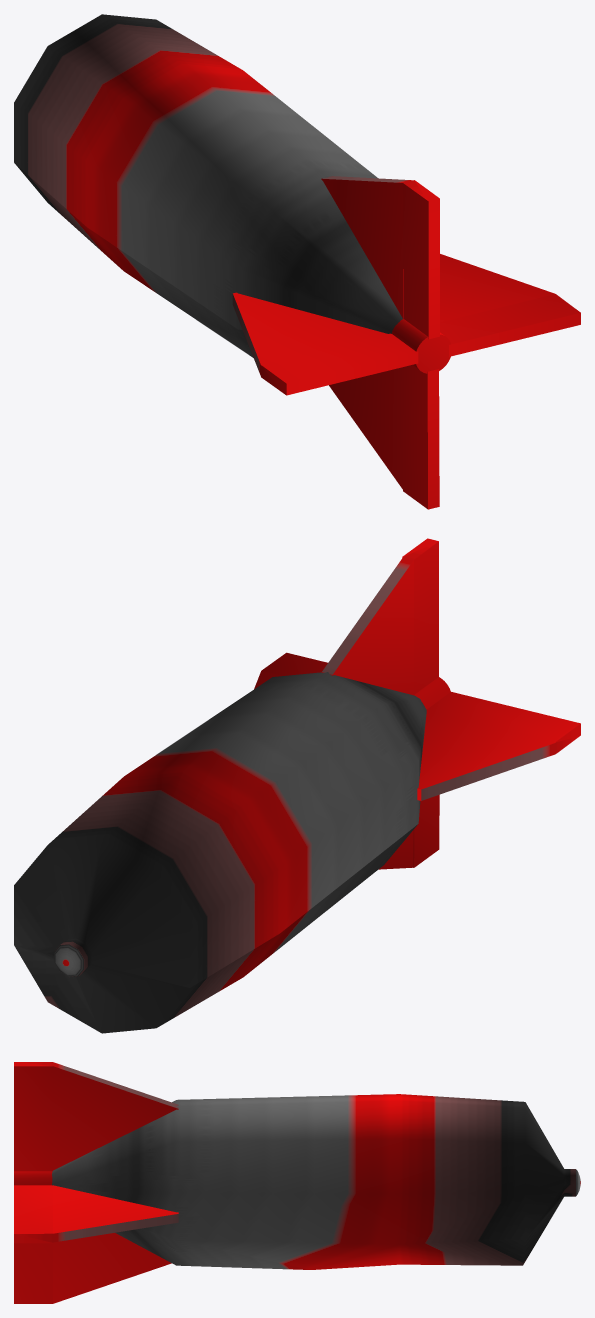
Rendered from actor.obj.
3 views of the same model, one above another, from view 1: azimuth 30°, elevation 25°; view 2: azimuth 150°, elevation 25°; view 3: azimuth 270°, elevation 25° (orthographic). The views are drawn at different scales.
Parts seen in each view (by area): view 1: actor; view 2: actor; view 3: actor.
Boxes of the visible parts, <box> form: actor: <box>14,14,580,509</box>; actor: <box>14,538,580,1033</box>; actor: <box>14,1062,580,1303</box>.
Bounding box in the file's own units: 1.94 × 1.94 × 4.2.
1 material, 1 textured.
